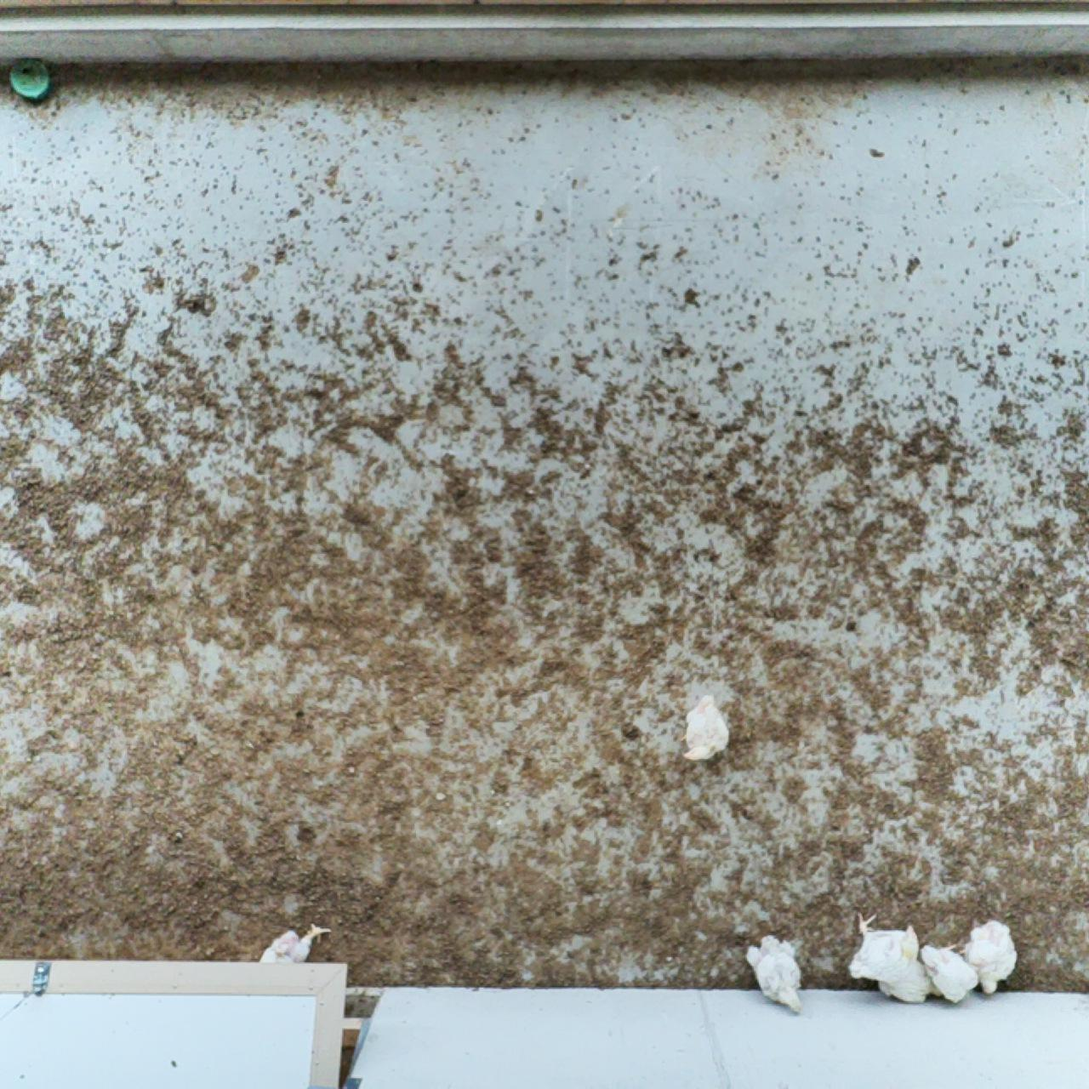chicken: (842, 901, 921, 990), (741, 929, 813, 1021), (958, 912, 1021, 999), (914, 938, 981, 1008), (678, 692, 737, 770), (257, 920, 335, 968)
